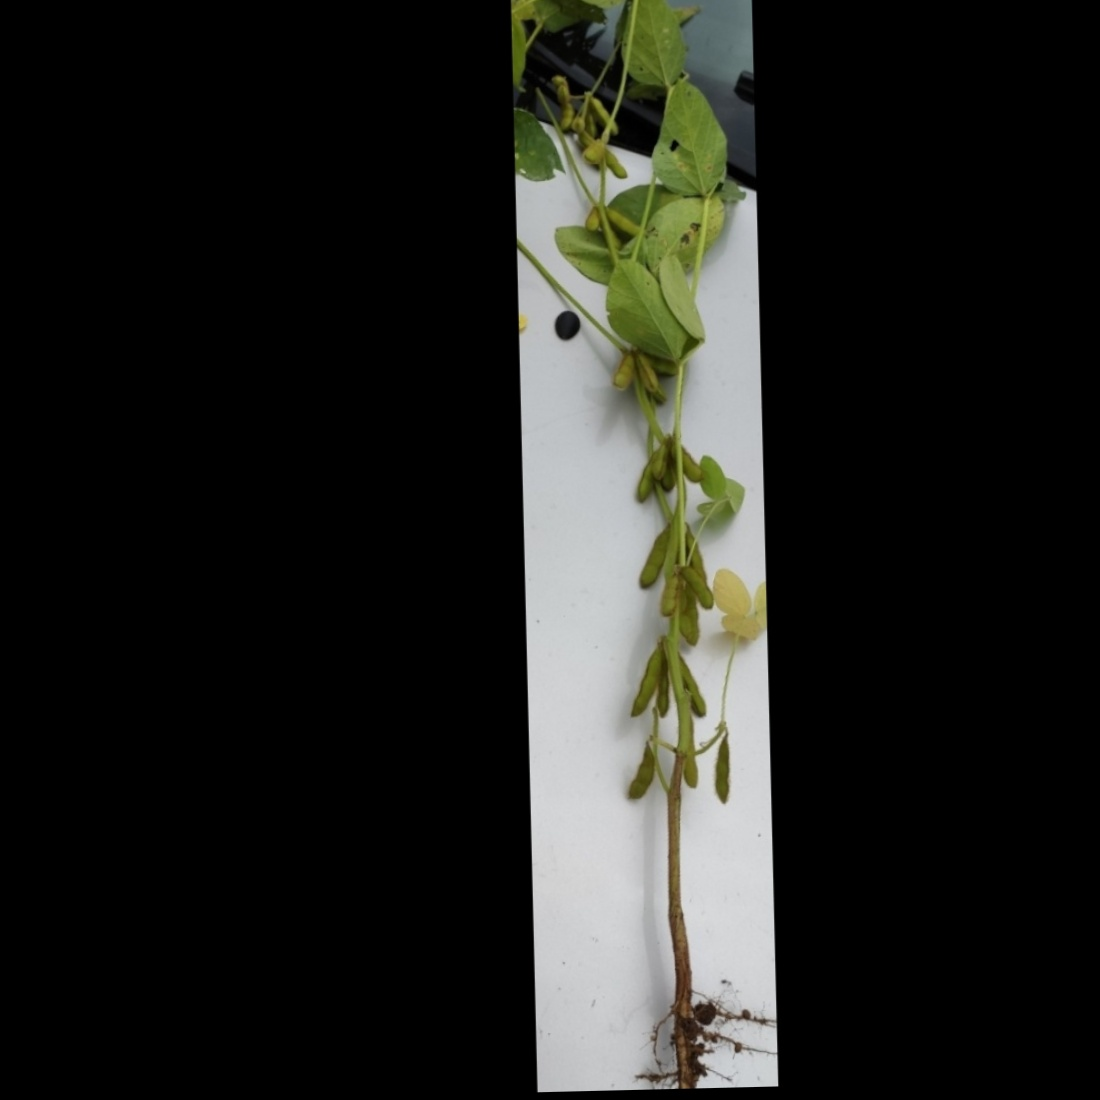pod: (628, 649, 664, 721), (632, 527, 672, 589), (624, 742, 660, 806), (679, 564, 718, 612), (712, 733, 733, 807), (587, 91, 617, 137), (610, 350, 638, 393)
soy: (514, 0, 764, 1084)
